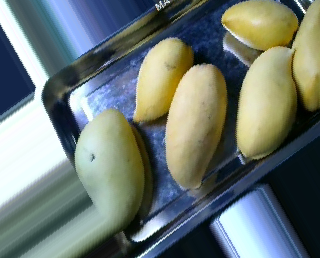Mango: (72, 105, 148, 228), (164, 56, 226, 192), (234, 43, 299, 164), (129, 36, 197, 126), (216, 0, 300, 48), (287, 3, 320, 113)
